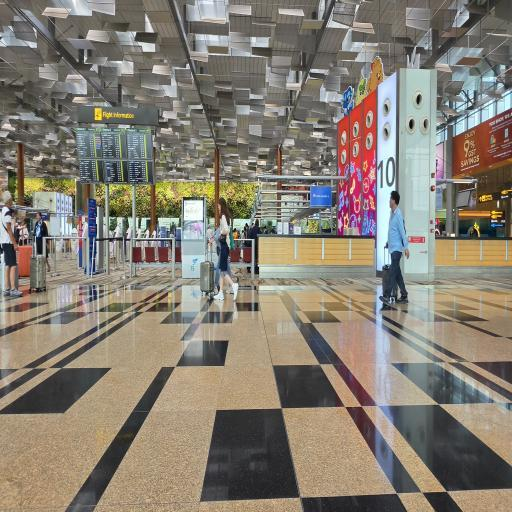person_with_luggage_left: (378, 182, 412, 310), (198, 198, 234, 296)
